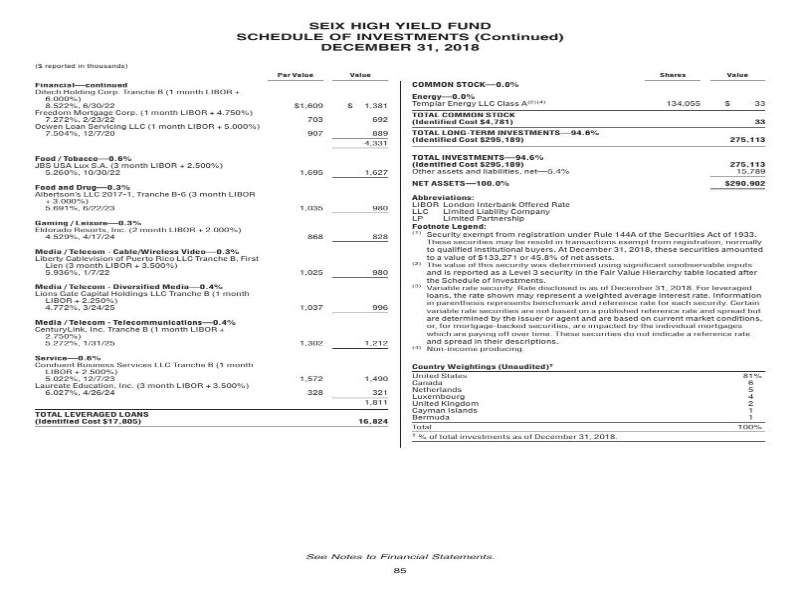table: (25, 57, 406, 447), (394, 74, 789, 196), (397, 358, 789, 447)
